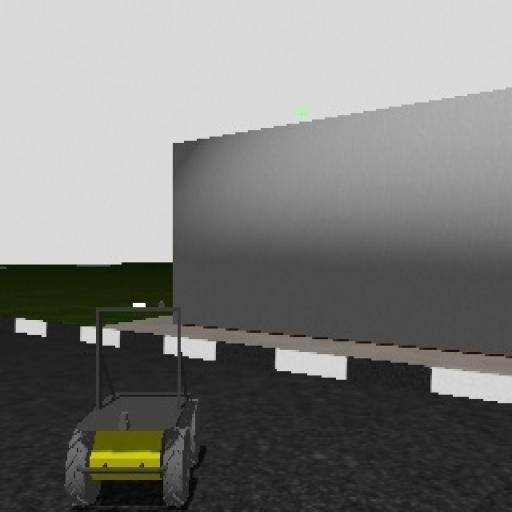huskya200: (61, 293, 199, 509)
